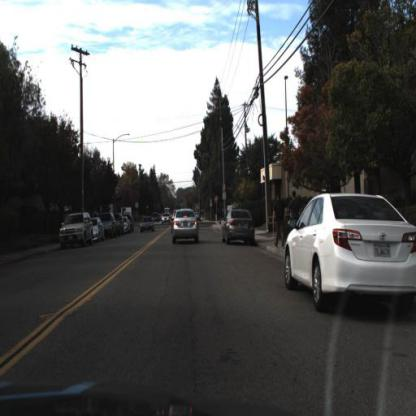car: (284, 187, 416, 311), (59, 211, 94, 248), (221, 210, 256, 242), (173, 207, 198, 245), (141, 217, 157, 235)
pedestrian: (272, 189, 289, 253), (289, 191, 303, 233)
